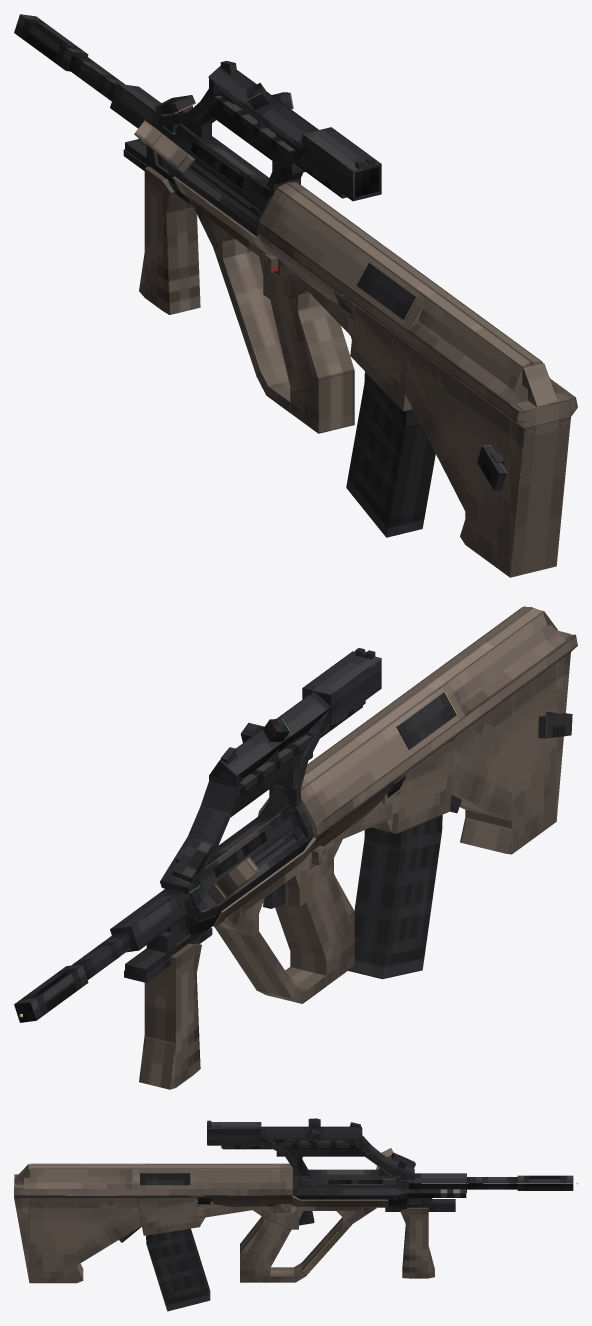
The model's file is aug.fbx.
3 renders of one model, top to bottom at view 1: azimuth 30°, elevation 25°; view 2: azimuth 150°, elevation 25°; view 3: azimuth 270°, elevation 25°, orthographic. The views are drawn at different scales.
Visible parts, largest first — view 1: gun, magazine, aug_scope, aug_grip, aug_upperrail, action, aug_grip2; view 2: gun, aug_scope, magazine, aug_grip, aug_upperrail, aug_grip2, action; view 3: gun, aug_scope, magazine, aug_grip, aug_upperrail, bolt, aug_grip2.
Part boxes in pixels (left/top/right/bottom): gun: left=14, top=14, right=577, bottom=577; magazine: left=346, top=372, right=435, bottom=537; aug_scope: left=155, top=60, right=381, bottom=201; aug_grip: left=139, top=166, right=200, bottom=314; aug_upperrail: left=182, top=95, right=346, bottom=198; action: left=134, top=120, right=194, bottom=173; aug_grip2: left=123, top=139, right=191, bottom=204; gun: left=14, top=606, right=577, bottom=1022; aug_scope: left=160, top=648, right=381, bottom=893; magazine: left=348, top=815, right=442, bottom=979; aug_grip: left=139, top=943, right=201, bottom=1089; aug_upperrail: left=190, top=700, right=365, bottom=842; aug_grip2: left=124, top=927, right=212, bottom=982; action: left=207, top=857, right=259, bottom=904; gun: left=14, top=1163, right=573, bottom=1283; aug_scope: left=207, top=1118, right=415, bottom=1179; magazine: left=146, top=1228, right=210, bottom=1311; aug_grip: left=400, top=1207, right=434, bottom=1278; aug_upperrail: left=221, top=1140, right=399, bottom=1175; bolt: left=139, top=1173, right=190, bottom=1185; aug_grip2: left=385, top=1198, right=455, bottom=1211.
Size of the model in its own units: 55.66 by 202 by 551.
